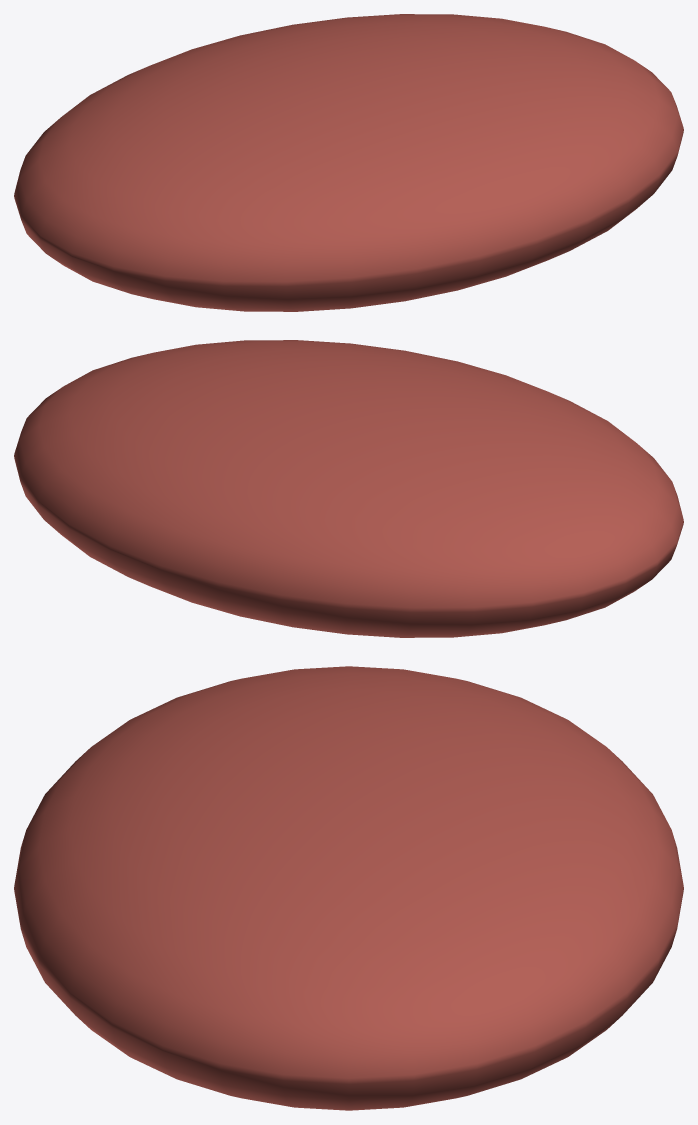
File: SM_FOD_DRAY_MEAT.fbx
3 views of the same model, one above another, from view 1: azimuth 30°, elevation 25°; view 2: azimuth 150°, elevation 25°; view 3: azimuth 270°, elevation 25° (orthographic). The views are drawn at different scales.
Parts seen in each view (by area): view 1: SM_FOD_DRAY_MEAT; view 2: SM_FOD_DRAY_MEAT; view 3: SM_FOD_DRAY_MEAT.
Boxes of the visible parts, bbox=[...] form: SM_FOD_DRAY_MEAT: bbox=[14, 14, 683, 311]; SM_FOD_DRAY_MEAT: bbox=[14, 340, 683, 637]; SM_FOD_DRAY_MEAT: bbox=[14, 666, 683, 1110].
Size of what is drawn, in the model's own units: 0.3894 by 0.104 by 0.2855.
